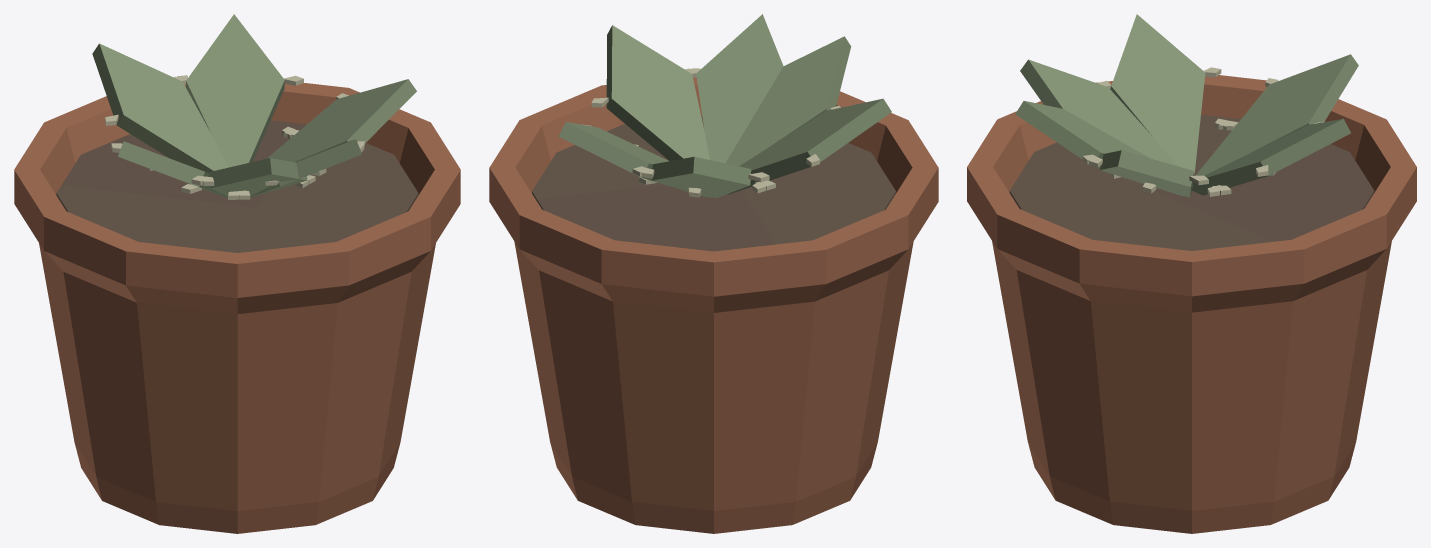
Rendered from new-tigrina.glb.
The picture shows the model from 3 angles, left to right: view 1: azimuth 30°, elevation 25°; view 2: azimuth 150°, elevation 25°; view 3: azimuth 270°, elevation 25°; orthographic projection.
Visible parts, largest first — view 1: new-tigrina/review-terra-vessel, new-tigrina/review-rooted-soil, new-tigrina/leaf-006, new-tigrina/leaf-021, new-tigrina/leaf-016, new-tigrina/leaf-026, new-tigrina/leaf-011, new-tigrina/leaf-001; view 2: new-tigrina/review-terra-vessel, new-tigrina/review-rooted-soil, new-tigrina/leaf-016, new-tigrina/leaf-001, new-tigrina/leaf-026, new-tigrina/leaf-011, new-tigrina/leaf-021, new-tigrina/leaf-006; view 3: new-tigrina/review-terra-vessel, new-tigrina/review-rooted-soil, new-tigrina/leaf-011, new-tigrina/leaf-021, new-tigrina/leaf-026, new-tigrina/leaf-006, new-tigrina/leaf-001, new-tigrina/leaf-016.
Part boxes in pixels (x1,y1,x2,y2): new-tigrina/review-terra-vessel: [14, 83, 460, 533]; new-tigrina/review-rooted-soil: [56, 120, 418, 252]; new-tigrina/leaf-006: [186, 14, 284, 167]; new-tigrina/leaf-021: [92, 43, 228, 172]; new-tigrina/leaf-016: [267, 79, 416, 162]; new-tigrina/leaf-026: [209, 158, 307, 199]; new-tigrina/leaf-011: [118, 141, 227, 197]; new-tigrina/leaf-001: [250, 139, 361, 196]; new-tigrina/review-terra-vessel: [489, 77, 938, 533]; new-tigrina/review-rooted-soil: [532, 115, 895, 251]; new-tigrina/leaf-016: [606, 25, 709, 160]; new-tigrina/leaf-001: [696, 14, 783, 163]; new-tigrina/leaf-026: [725, 36, 851, 166]; new-tigrina/leaf-011: [727, 98, 891, 194]; new-tigrina/leaf-021: [651, 156, 751, 197]; new-tigrina/leaf-006: [558, 122, 702, 196]; new-tigrina/review-terra-vessel: [967, 75, 1416, 533]; new-tigrina/review-rooted-soil: [1009, 114, 1374, 250]; new-tigrina/leaf-011: [1110, 14, 1205, 188]; new-tigrina/leaf-021: [1196, 54, 1358, 175]; new-tigrina/leaf-026: [1020, 59, 1178, 166]; new-tigrina/leaf-006: [1192, 118, 1350, 195]; new-tigrina/leaf-001: [1015, 101, 1150, 168]; new-tigrina/leaf-016: [1100, 150, 1194, 197].
Size of the model in its own units: 0.19 by 0.179 by 0.19.
Materials: 4 (4 with a texture image).
